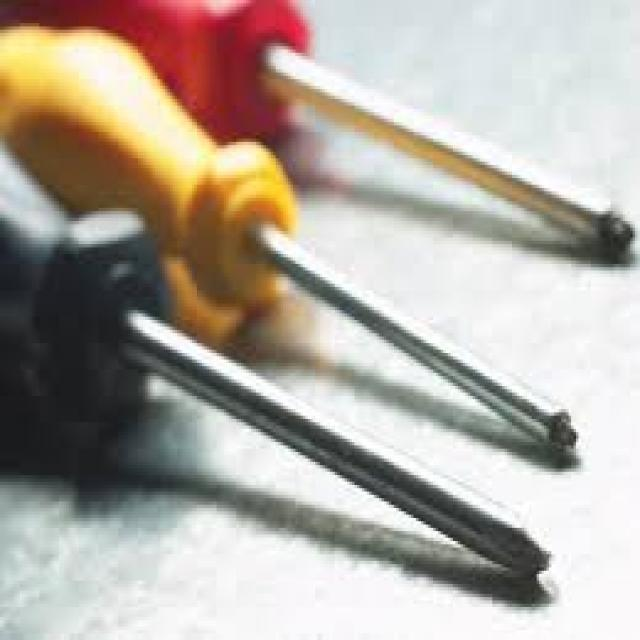screwdriver: (0, 19, 586, 466), (0, 147, 554, 579), (0, 0, 640, 264)
